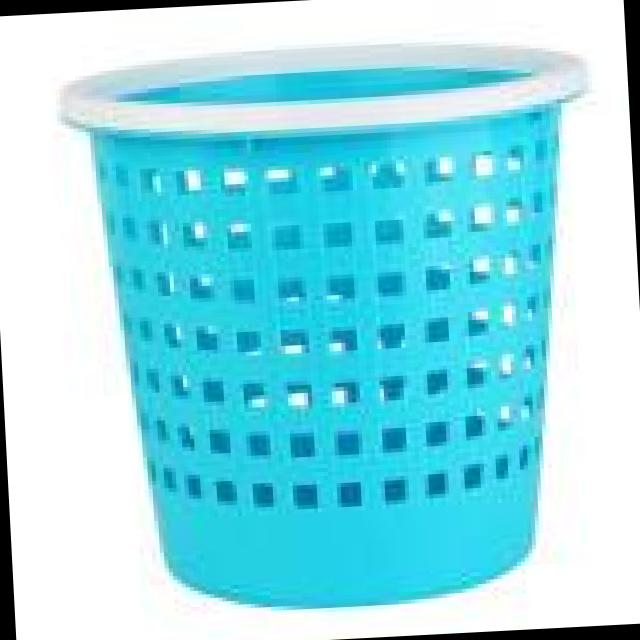dustbin: (51, 25, 628, 630)
